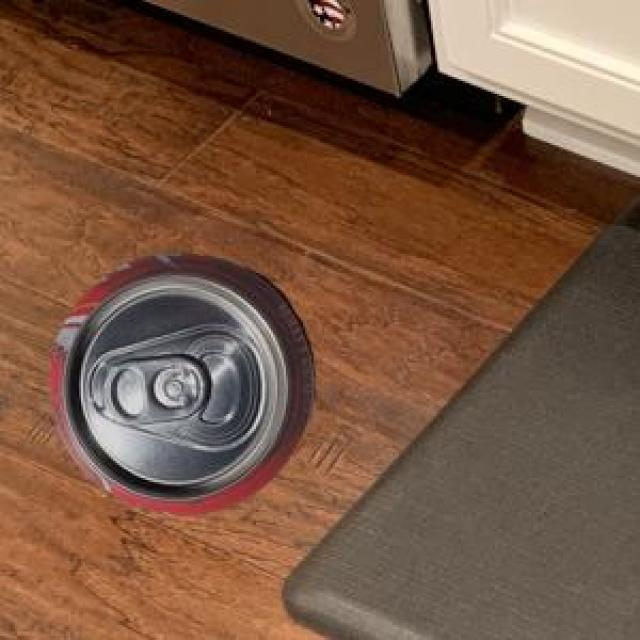Can: (46, 249, 313, 513)
